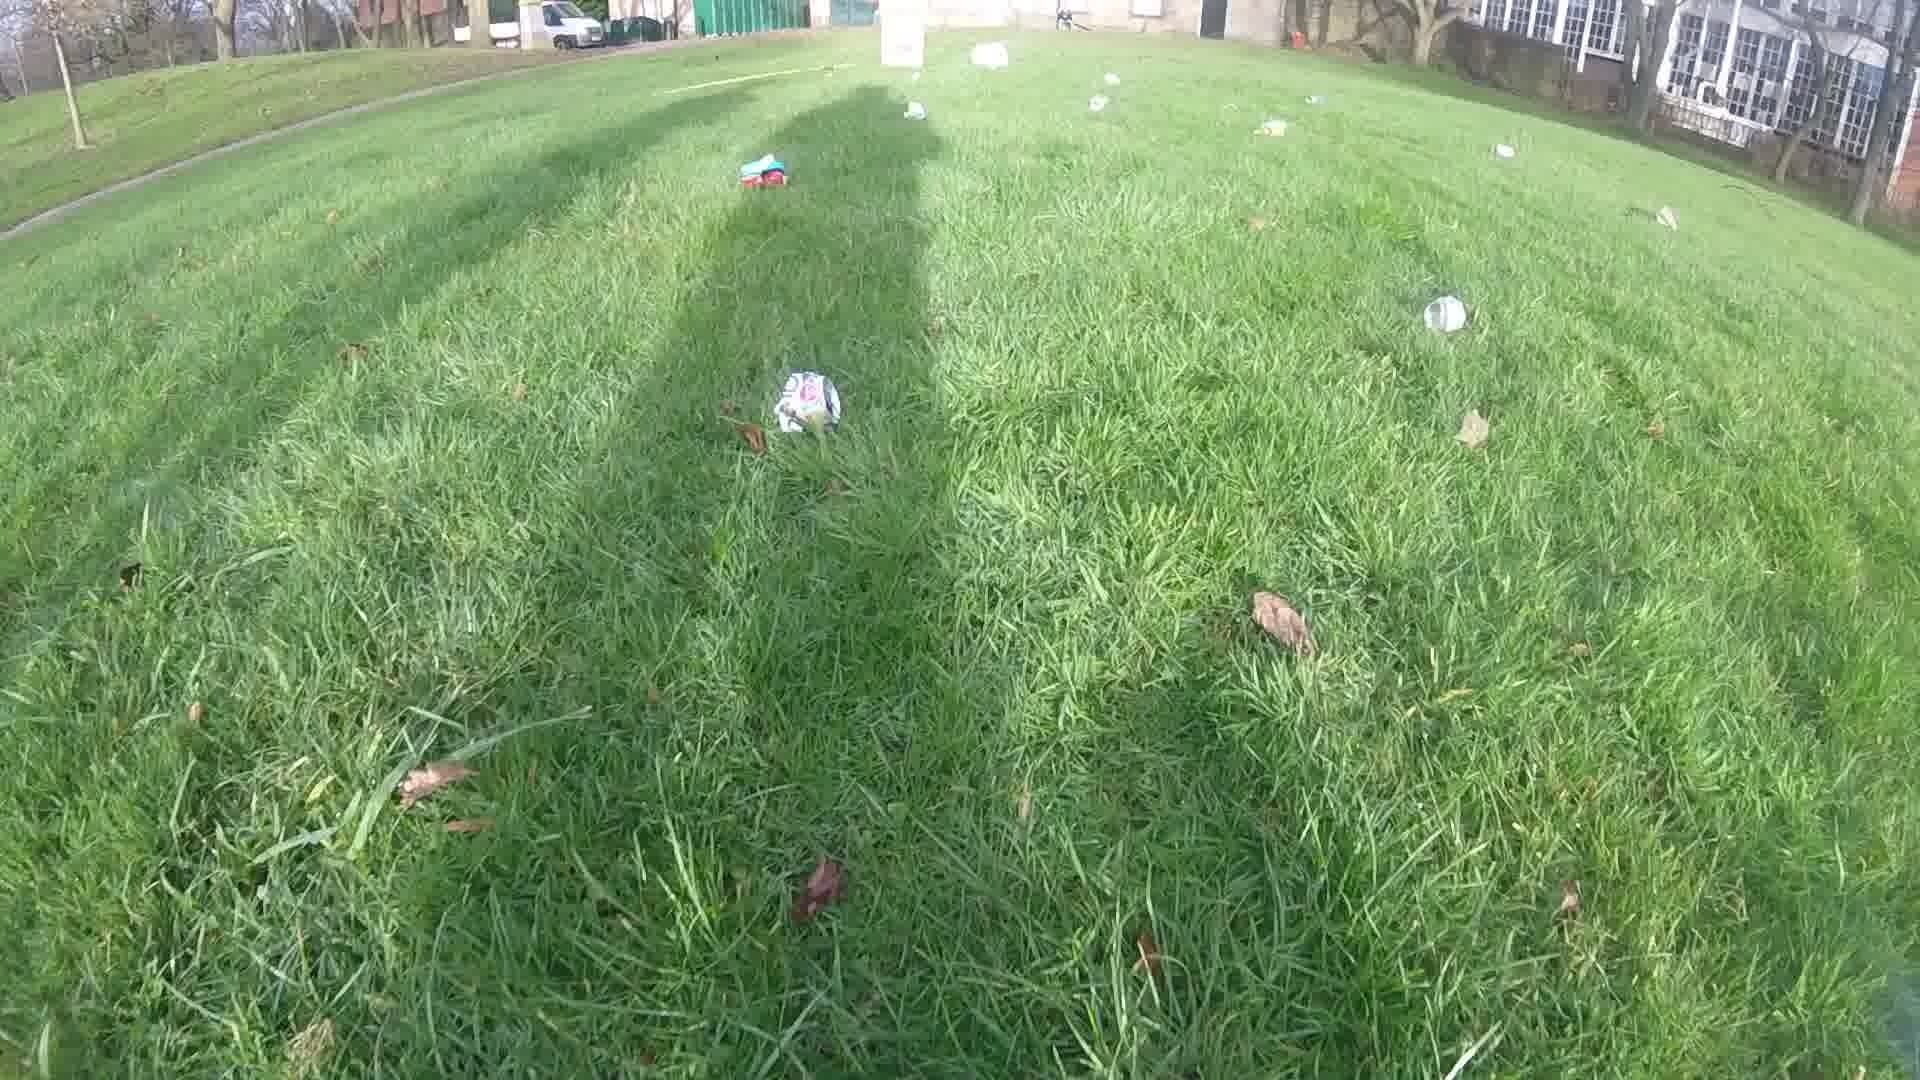litter: (779, 373, 839, 431), (880, 7, 927, 73), (1423, 299, 1470, 334), (742, 157, 785, 189), (971, 42, 1009, 70), (1654, 206, 1681, 232), (1253, 120, 1287, 140), (903, 102, 924, 123), (1489, 144, 1515, 160), (1091, 94, 1106, 112), (1298, 95, 1317, 105), (1106, 73, 1120, 84)
